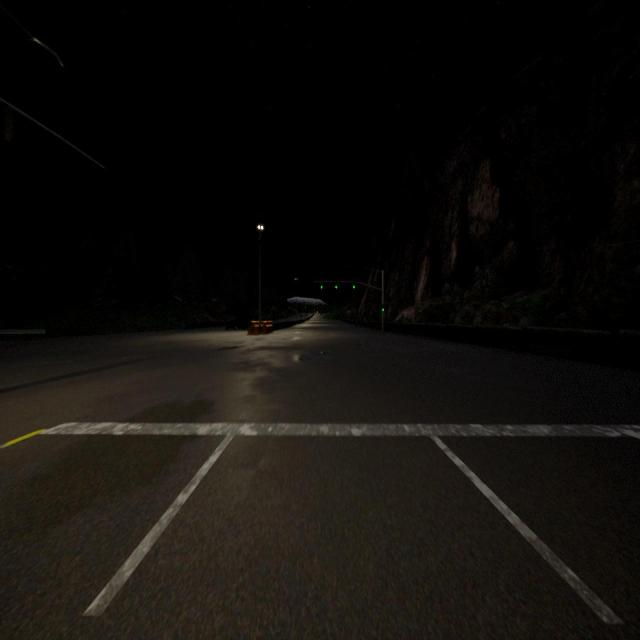traffic_light: (334, 282, 338, 289), (382, 304, 384, 313), (353, 282, 355, 290), (320, 282, 322, 289)
